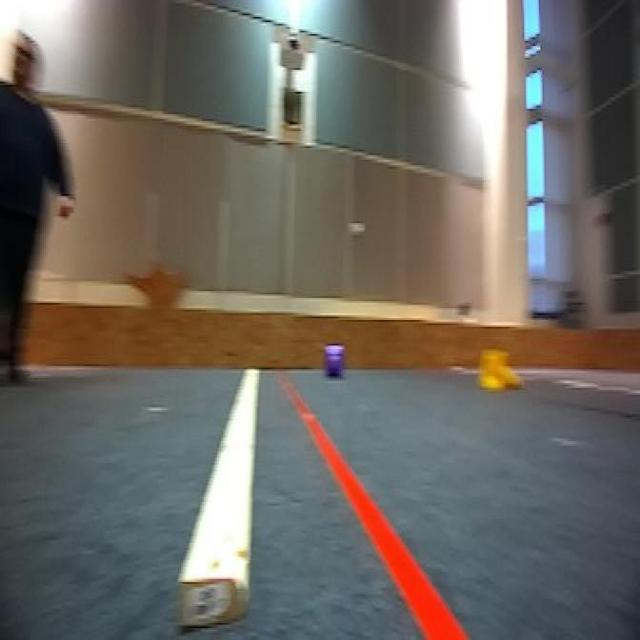frc_cone: (475, 342, 525, 397)
frc_cube: (324, 342, 346, 378)
